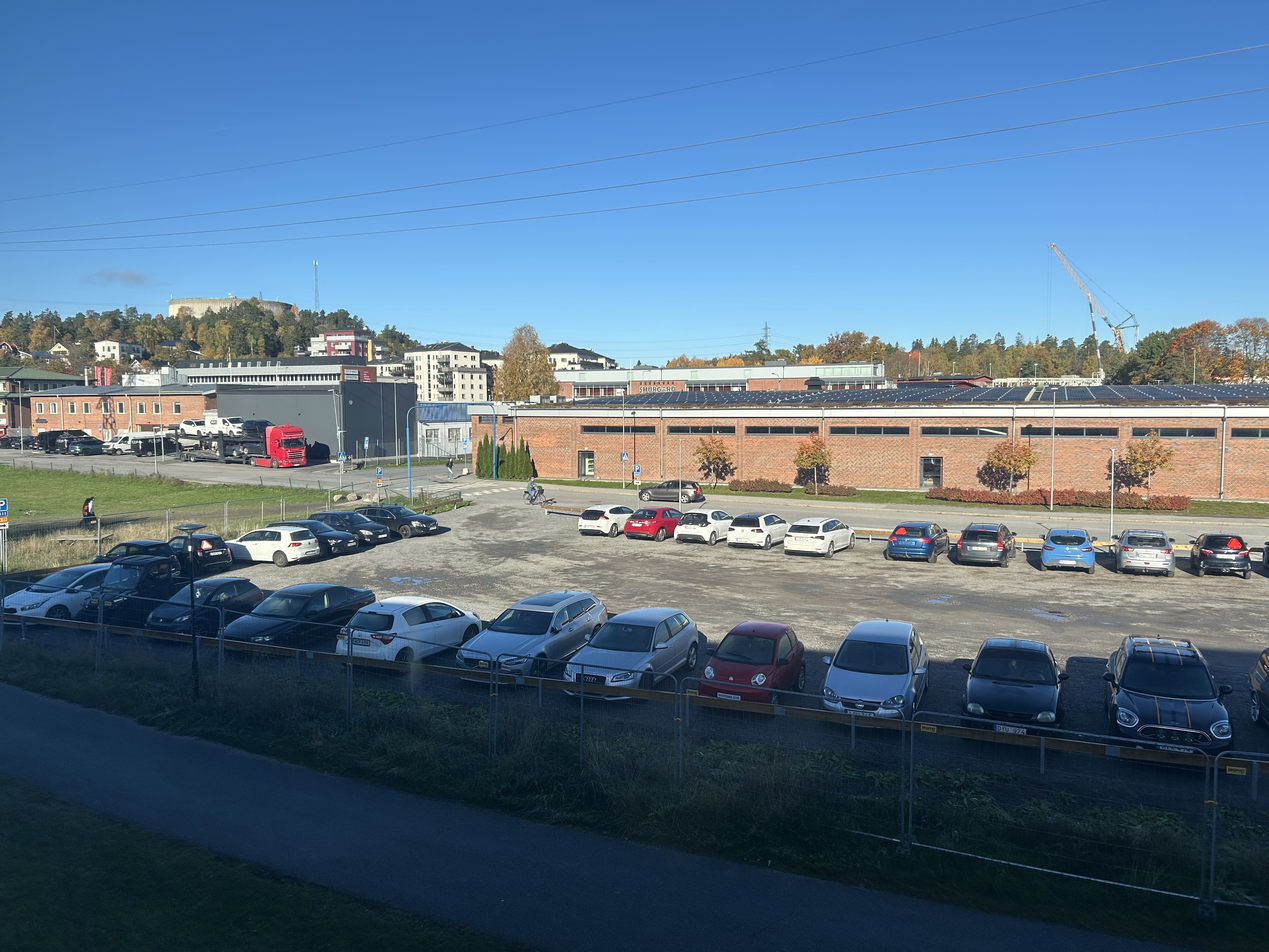Car: (1096, 633, 1238, 765), (456, 587, 616, 680), (561, 604, 707, 695), (816, 618, 937, 726), (212, 583, 380, 655), (959, 636, 1070, 741), (334, 595, 483, 670), (698, 620, 810, 706), (78, 558, 201, 632), (144, 576, 267, 642), (1, 561, 125, 623), (224, 527, 320, 566), (265, 519, 358, 556), (92, 539, 183, 575), (354, 504, 439, 542), (1187, 532, 1254, 579), (783, 517, 856, 560), (954, 520, 1018, 569), (308, 509, 391, 545), (1112, 528, 1175, 575), (884, 520, 951, 564), (1038, 527, 1099, 573), (166, 533, 230, 572), (674, 507, 737, 546), (727, 512, 795, 548), (624, 506, 688, 542), (575, 505, 636, 537), (1247, 645, 1268, 724), (1262, 540, 1269, 569)
